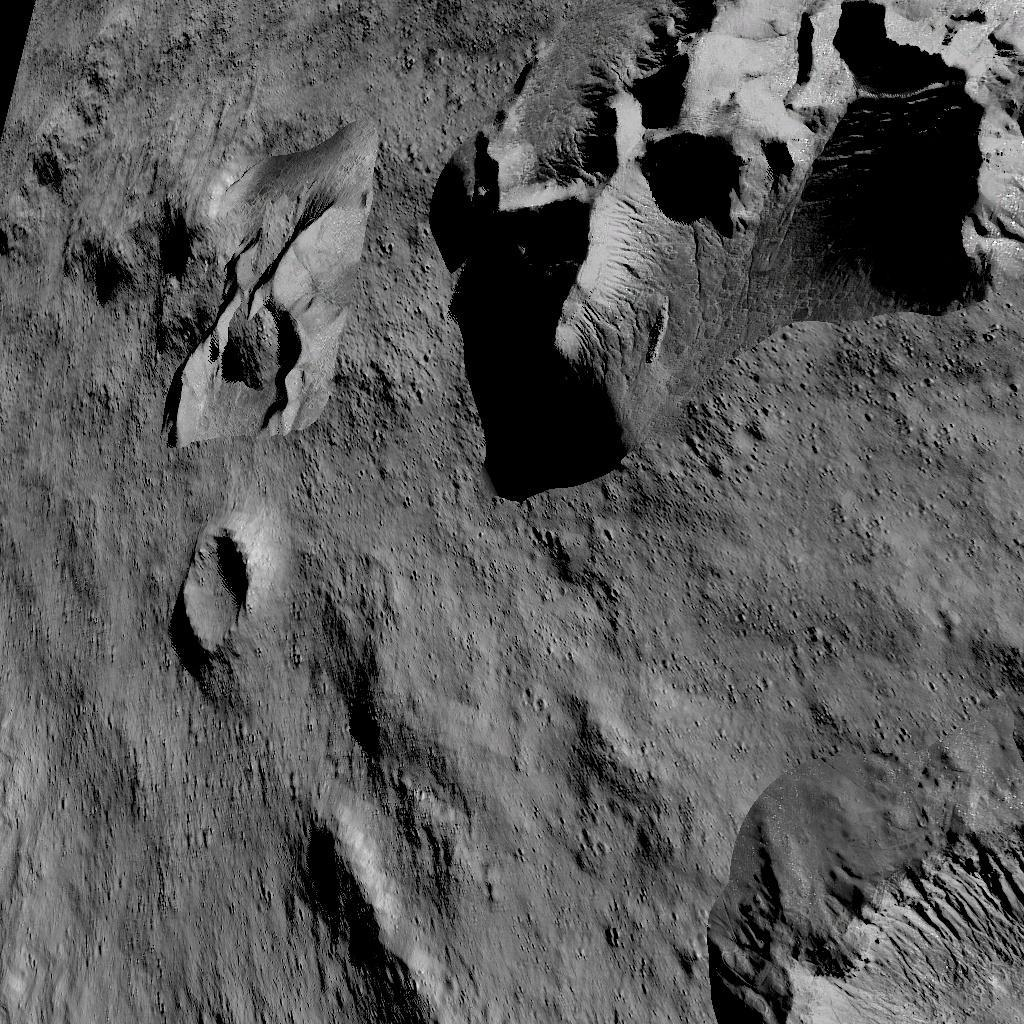Boulders: (425, 0, 1024, 503), (121, 108, 381, 448)
Crater: (725, 762, 1024, 1024), (169, 510, 264, 660)
Plan surface: (427, 516, 1024, 752), (3, 668, 314, 1024), (443, 762, 711, 1024), (1, 456, 159, 658), (123, 0, 413, 96)
